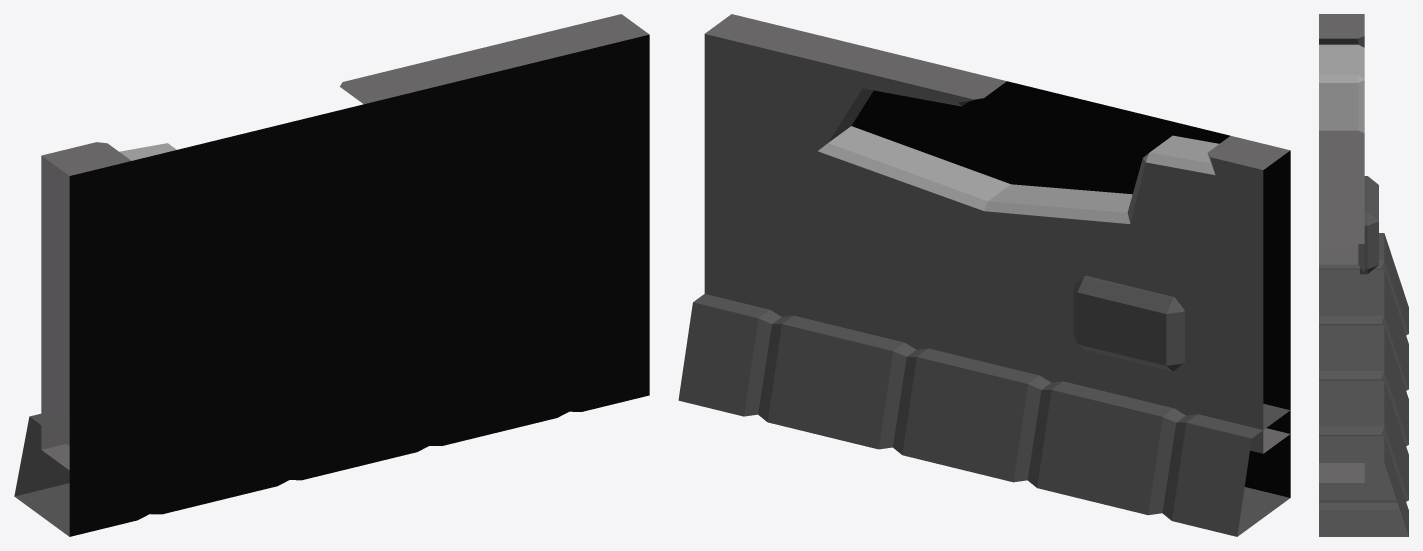
The model's file is Wall_8_Base.fbx.
The picture shows the model from 3 angles, left to right: view 1: azimuth 30°, elevation 25°; view 2: azimuth 150°, elevation 25°; view 3: azimuth 270°, elevation 25°; orthographic projection. The views are drawn at different scales.
Parts seen in each view (by area): view 1: Wall_8_Base; view 2: Wall_8_Base; view 3: Wall_8_Base.
Boxes of the visible parts, box(x1,y1,x2,y2) form: Wall_8_Base: box(14, 14, 649, 536); Wall_8_Base: box(678, 14, 1290, 536); Wall_8_Base: box(1319, 14, 1408, 536).
Bounding box in the file's own units: 200 × 119 × 33.
